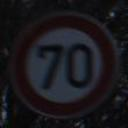speed_limit_70: (12, 10, 118, 118)
